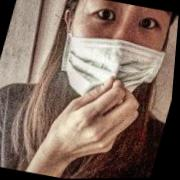WRONG: (55, 1, 177, 111)
